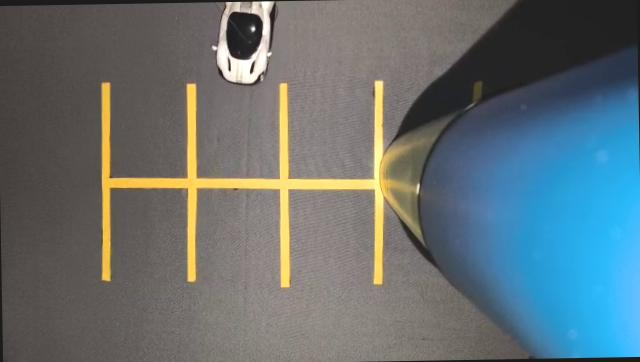toy_car: (185, 0, 292, 110)
